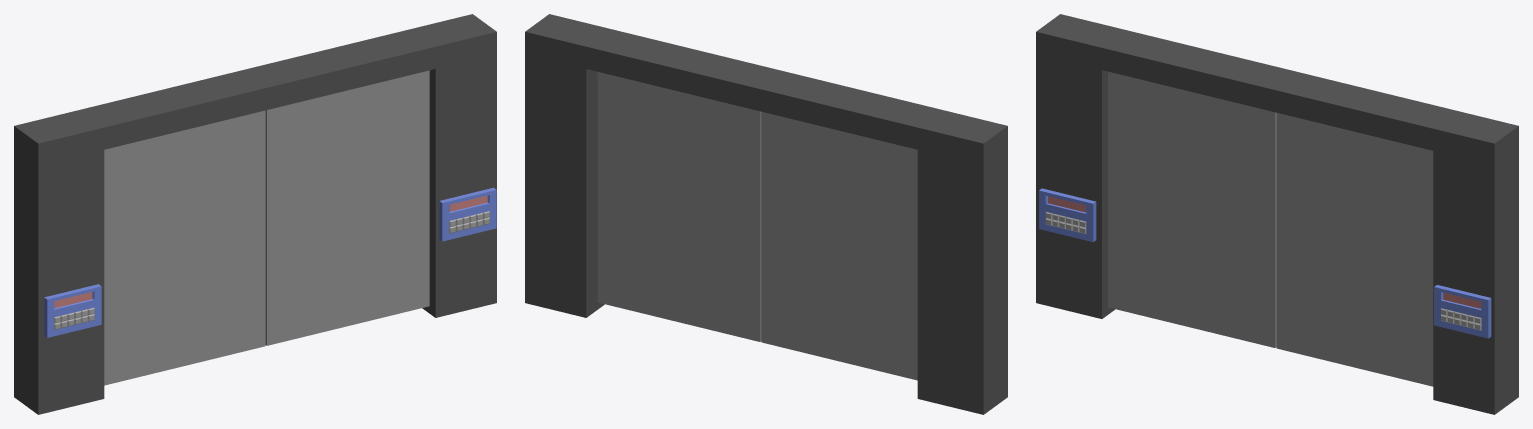
Rendered from Door.fbx.
3 views of the same model, side by side, from view 1: azimuth 30°, elevation 25°; view 2: azimuth 150°, elevation 25°; view 3: azimuth 330°, elevation 25° (orthographic).
Visible parts, largest first — view 1: Plane.003, Plane.005, Plane.004, Plane.007, Plane.006; view 2: Plane.003, Plane.005, Plane.004; view 3: Plane.003, Plane.004, Plane.005, Plane.007, Plane.006.
Part boxes in pixels (left/top/right/bottom): Plane.003: left=14, top=14, right=496, bottom=414; Plane.005: left=265, top=70, right=429, bottom=345; Plane.004: left=104, top=110, right=265, bottom=385; Plane.007: left=439, top=187, right=496, bottom=241; Plane.006: left=44, top=284, right=101, bottom=337; Plane.003: left=525, top=14, right=1007, bottom=414; Plane.005: left=597, top=72, right=761, bottom=341; Plane.004: left=761, top=111, right=917, bottom=380; Plane.003: left=1036, top=14, right=1518, bottom=414; Plane.004: left=1108, top=71, right=1276, bottom=347; Plane.005: left=1276, top=113, right=1433, bottom=386; Plane.007: left=1434, top=285, right=1491, bottom=338; Plane.006: left=1039, top=188, right=1096, bottom=241.
Size of the model in its own units: 1008 by 570 by 106.
